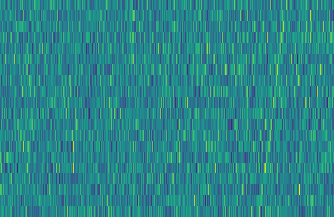signal: (256, 0, 294, 217)
